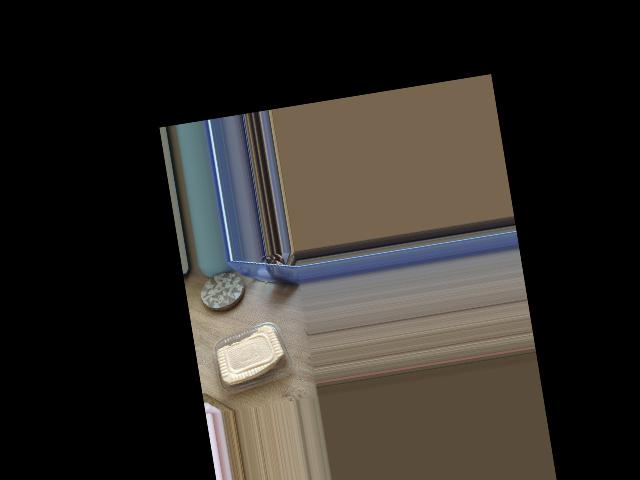cheese: (198, 315, 291, 414)
